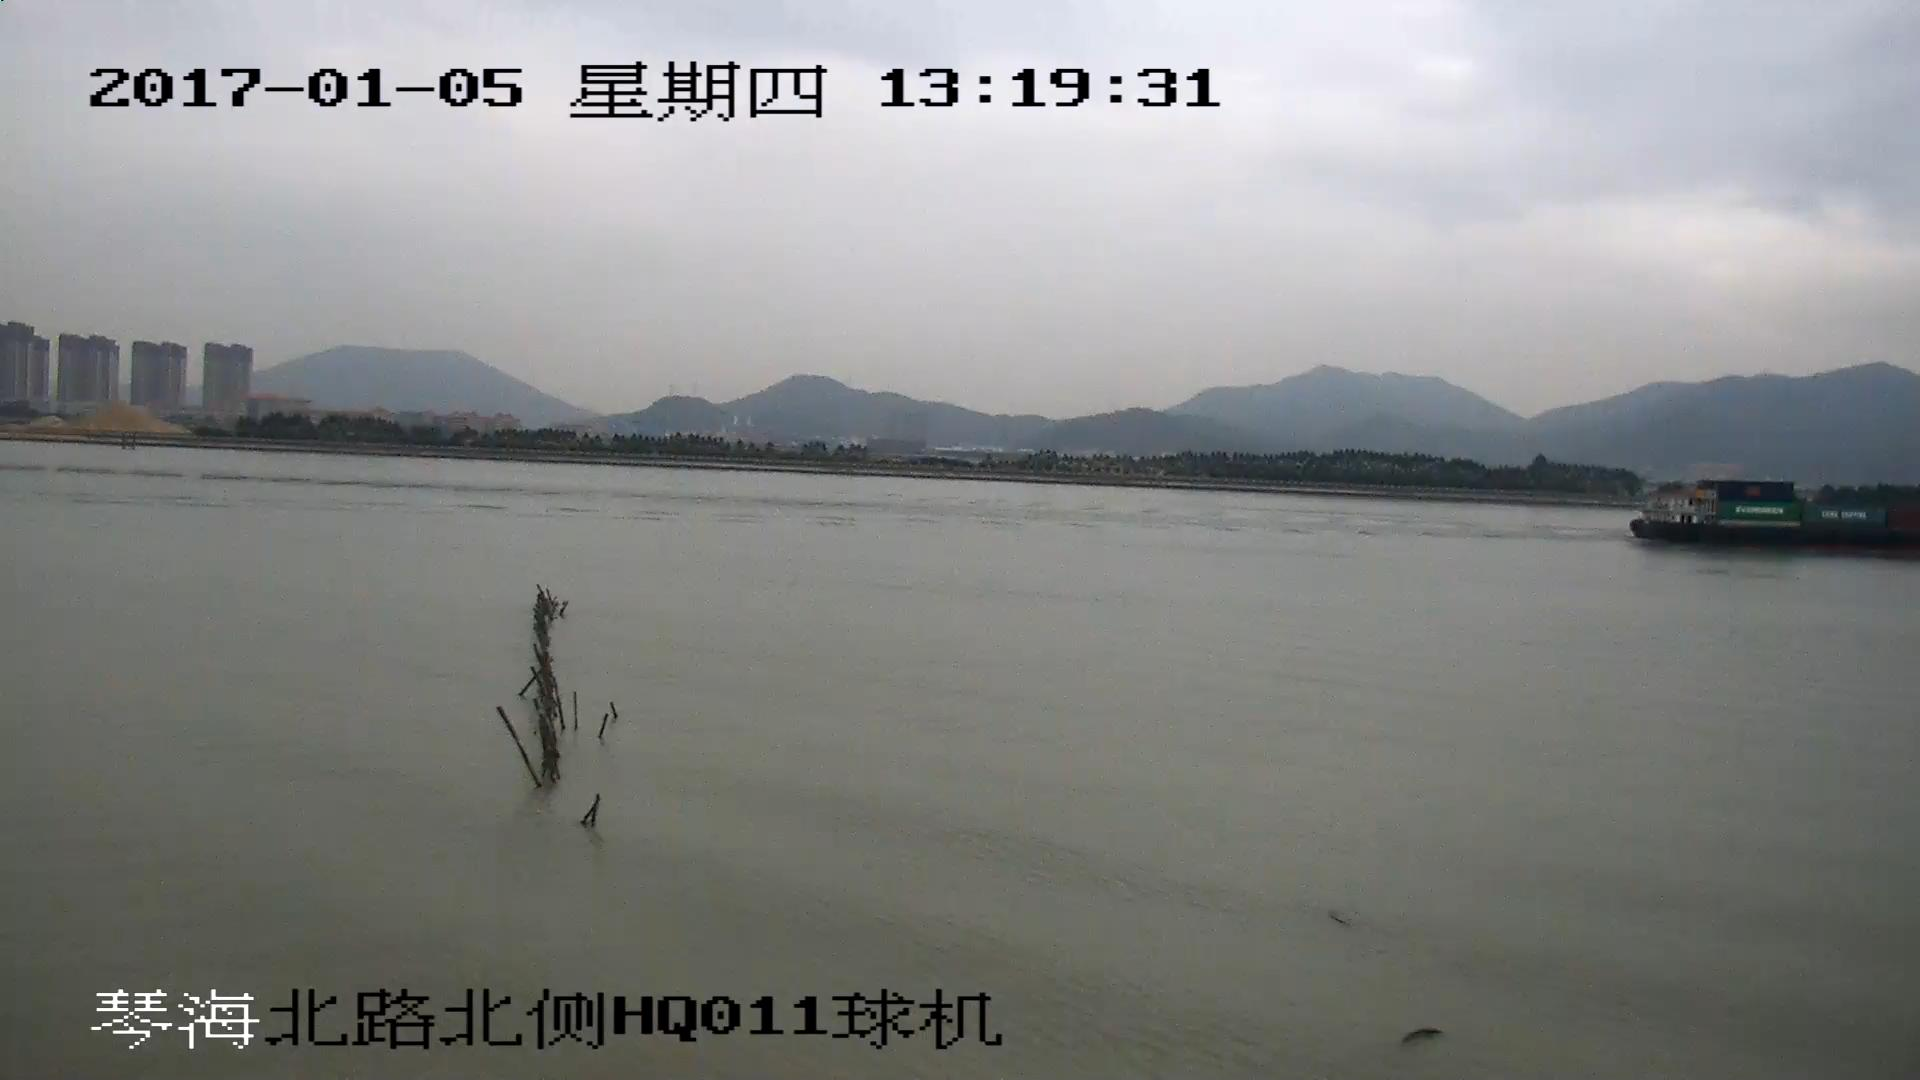container ship: (1625, 482, 1920, 547)
